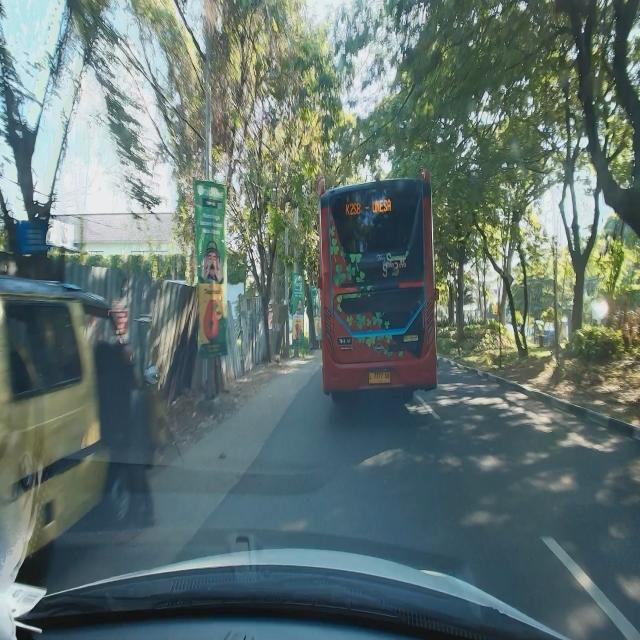bus: (316, 166, 439, 410)
license-plate: (368, 371, 391, 384)
